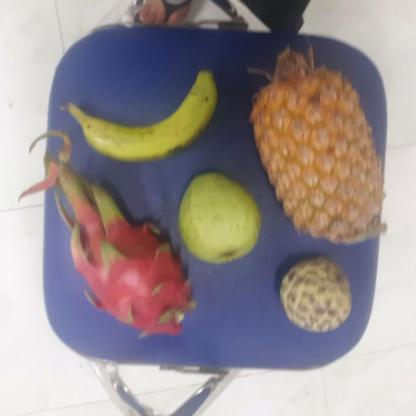annona: (277, 257, 352, 331)
guava: (173, 174, 262, 266)
pineapple: (252, 56, 384, 247)
pitaya: (70, 217, 193, 337)
